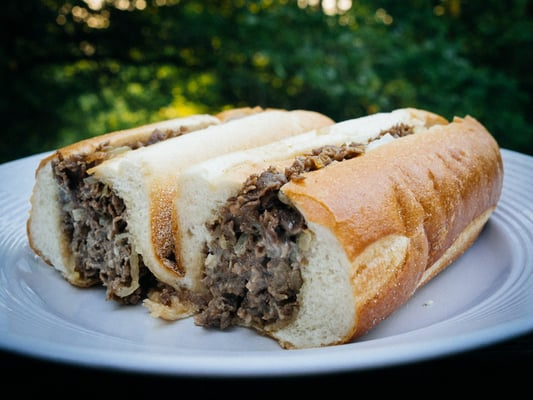soup: (11, 106, 496, 349)
